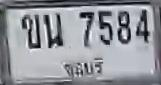4: (135, 9, 150, 43)
5: (97, 10, 113, 45)
7: (79, 11, 94, 47)
8: (117, 10, 131, 45)
A02: (21, 13, 41, 49)
A25: (43, 13, 65, 48)
CBI: (57, 54, 104, 79)
